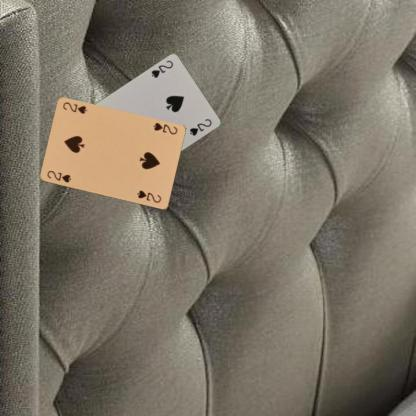2s: (148, 58, 174, 79), (150, 120, 179, 136), (45, 168, 72, 184)
